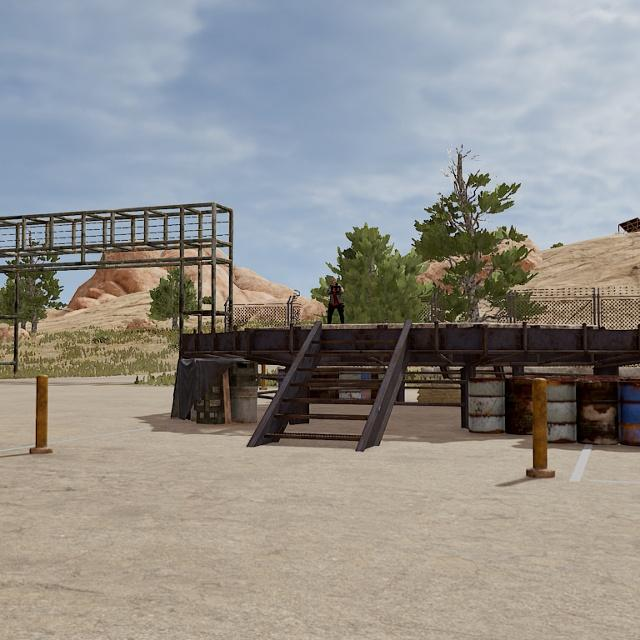head: (330, 278, 339, 288)
people: (326, 276, 346, 325)
